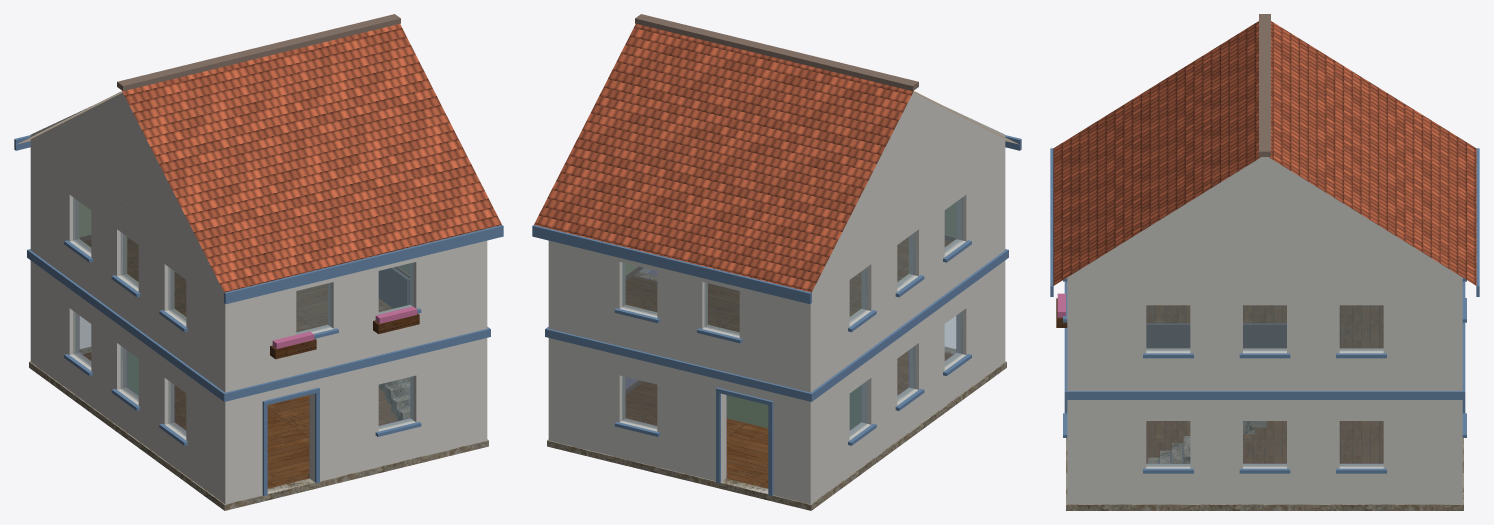
File: cove-house-white.coast-v2.lod0.glb
The picture shows the model from 3 angles, left to right: view 1: azimuth 30°, elevation 25°; view 2: azimuth 150°, elevation 25°; view 3: azimuth 270°, elevation 25°; orthographic projection.
Visible parts, largest first — view 1: cove-house-white; view 2: cove-house-white; view 3: cove-house-white.
Boxes of the visible parts, box(x1,y1,x2,y2) form: cove-house-white: box(14, 14, 503, 510); cove-house-white: box(532, 14, 1021, 510); cove-house-white: box(1050, 14, 1479, 510).
Size of the model in its own units: 7.42 by 9.11 by 9.78.
Materials: 5 (3 with a texture image).
